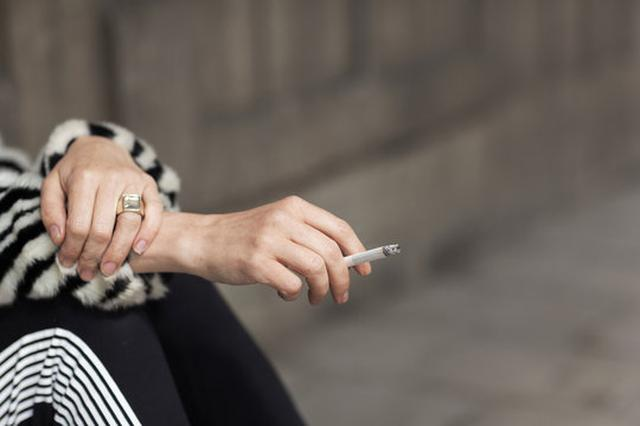Cigarette: (341, 242, 401, 268)
